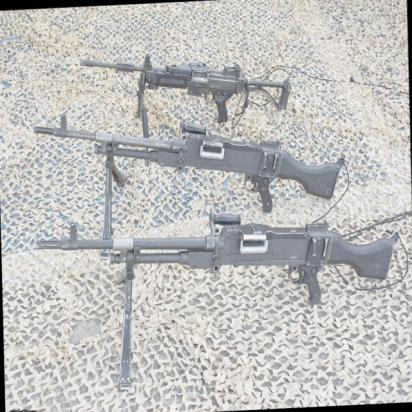Gun: (33, 198, 400, 311), (30, 99, 342, 213), (77, 43, 302, 128)
